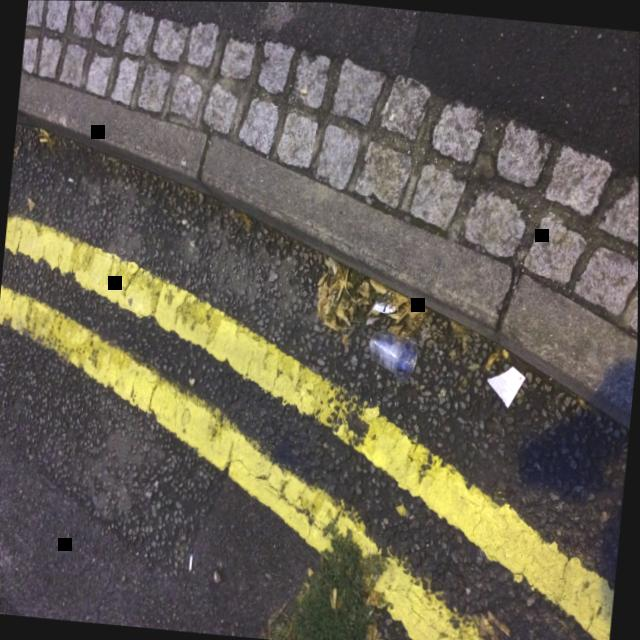Disposable plastic cup: (369, 330, 417, 383)
Normal paper: (487, 365, 525, 407)
Unlabeled litter: (372, 290, 396, 312)
